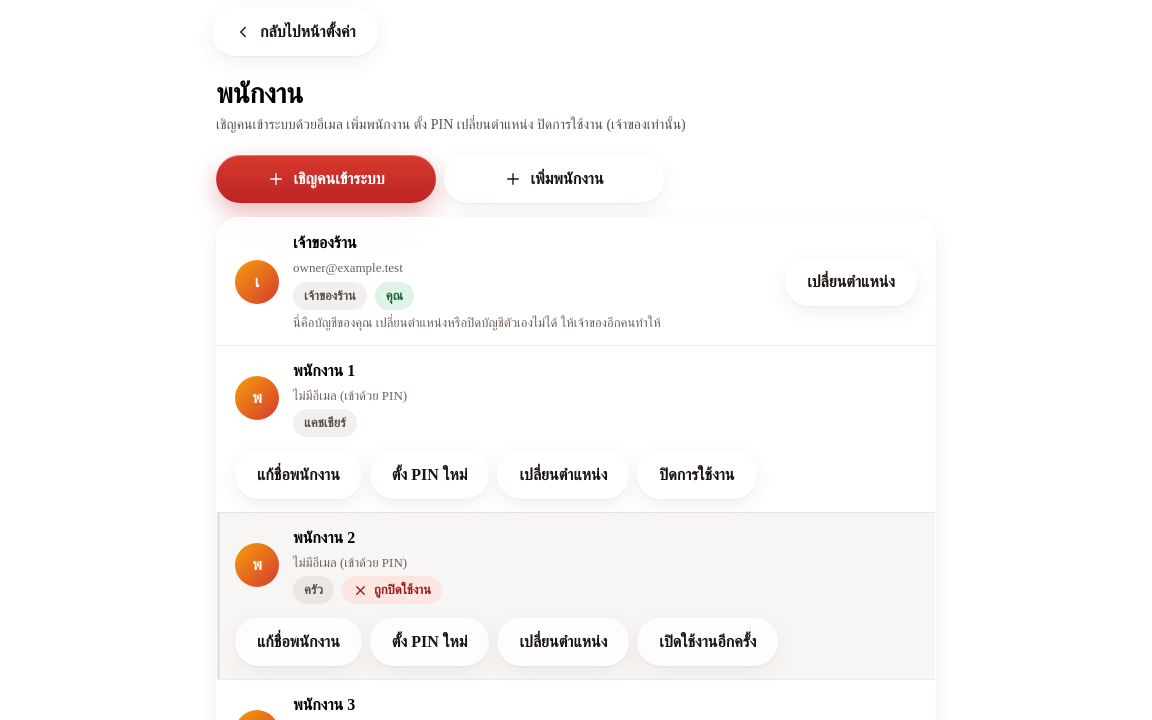
Test case: staff › renaming sends only the name
Expected: the text "พนักงาน 1" is shown, x1=293 y1=362 x2=355 y2=379
Click the button "แก้ชื่อพนักงาน" below "พนักงาน 1".
click(298, 475)  # box x1=235 y1=451 x2=362 y2=499
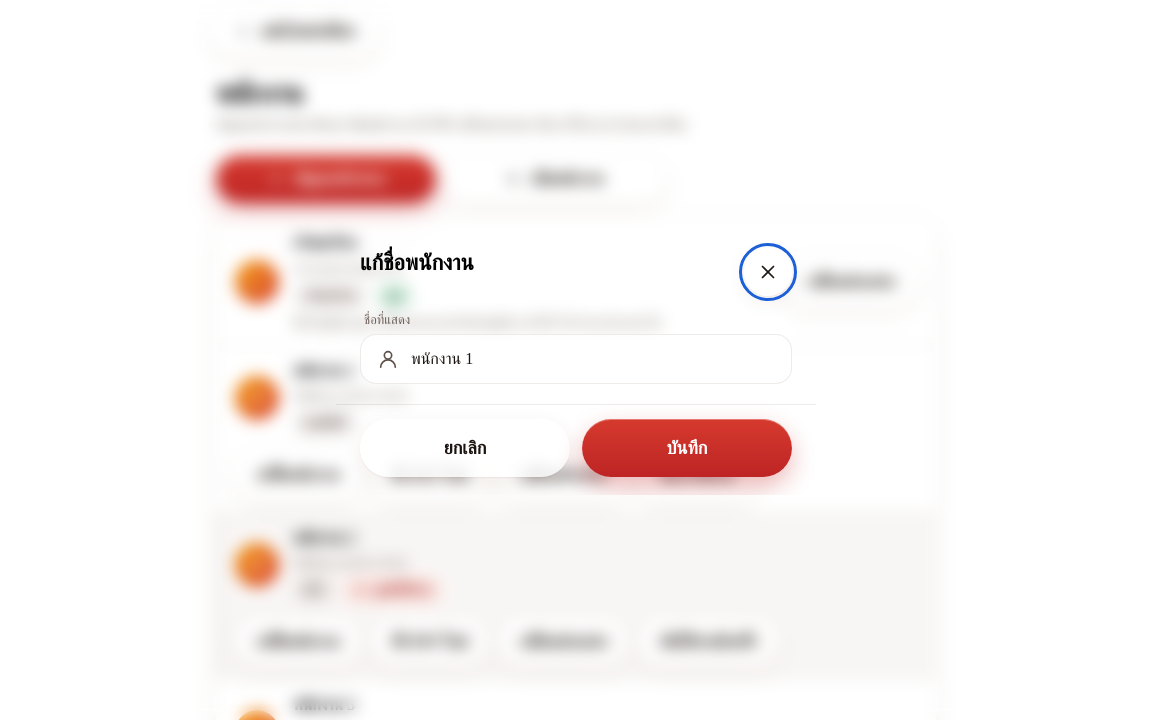
Replace the text in the field labelled "ชื่อที่แสดง" with "ชื่อใหม่" at (592, 358), box x1=409 y1=348 x2=775 y2=368
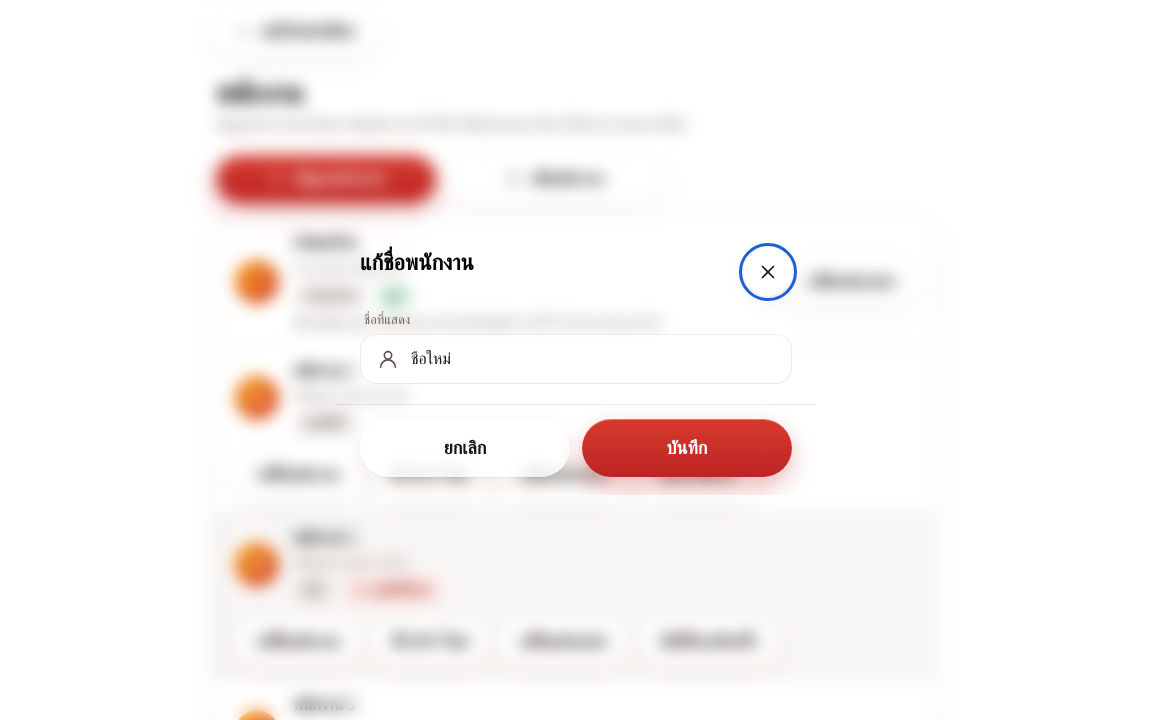
Click the button "บันทึก".
click(687, 448)  # box x1=582 y1=418 x2=792 y2=476
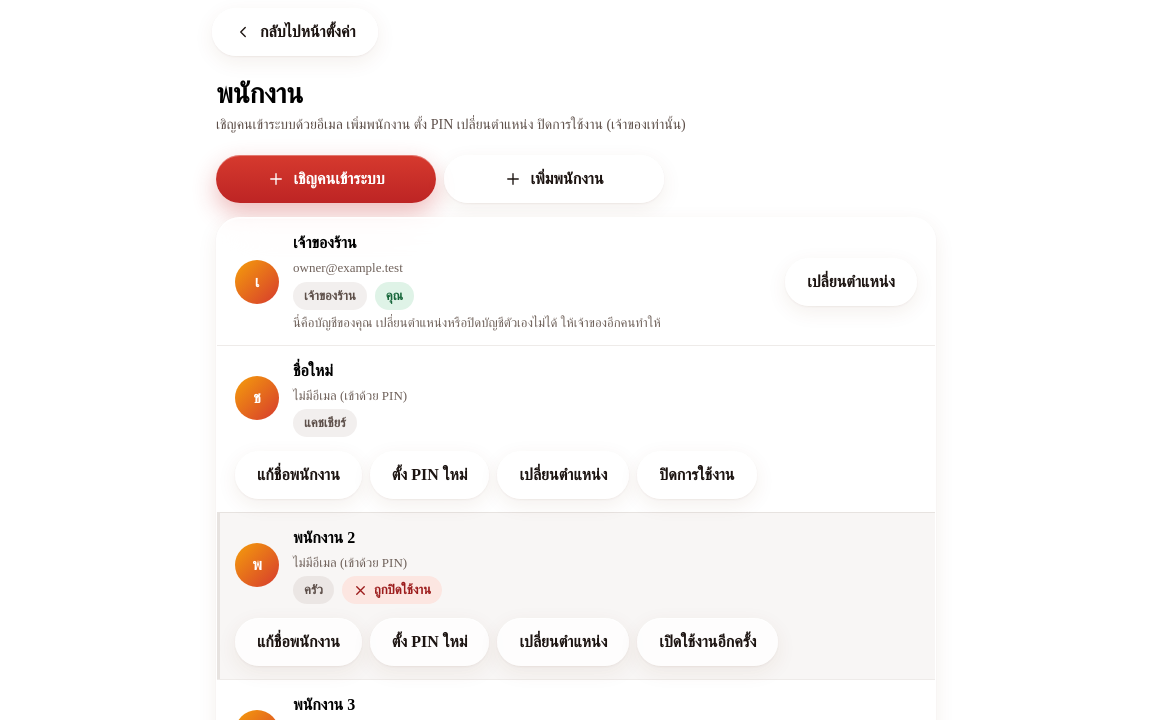
Expected: the text "ชื่อใหม่" is shown, x1=293 y1=362 x2=333 y2=379
